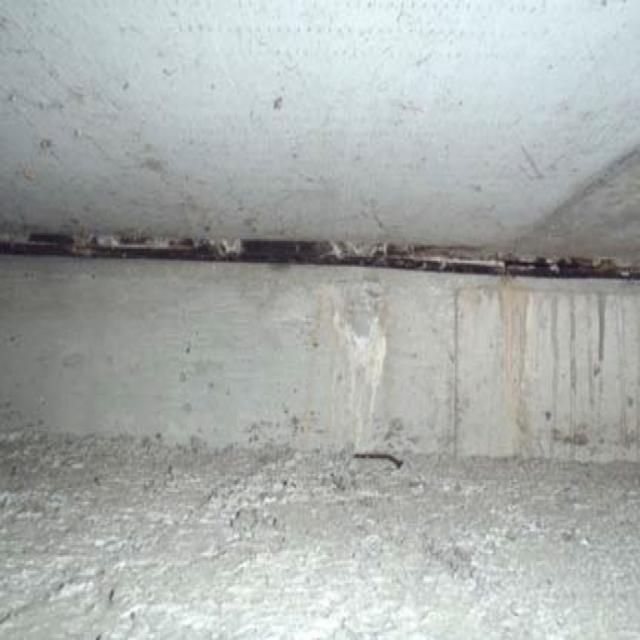freelime: (333, 283, 401, 437)
